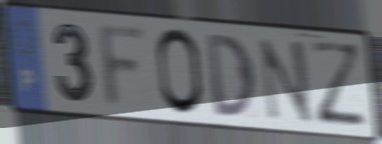3: (51, 20, 95, 107)
D: (203, 31, 258, 119)
F: (96, 22, 150, 113)
N: (257, 36, 316, 126)
O: (154, 26, 206, 119)
Z: (306, 37, 371, 129)
